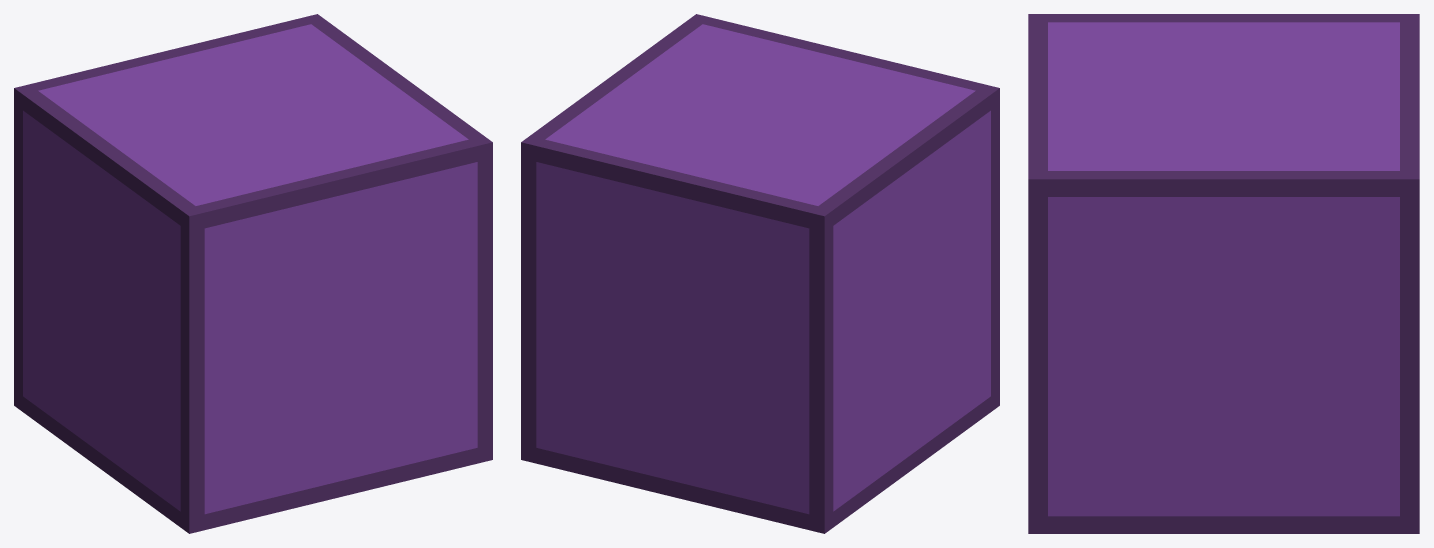
The model's file is floor.obj.
3 renders of one model, left to right at view 1: azimuth 30°, elevation 25°; view 2: azimuth 150°, elevation 25°; view 3: azimuth 270°, elevation 25°, orthographic. The views are drawn at different scales.
Bounding box in the file's own units: 2 × 2 × 2.
1 material, 1 textured.
